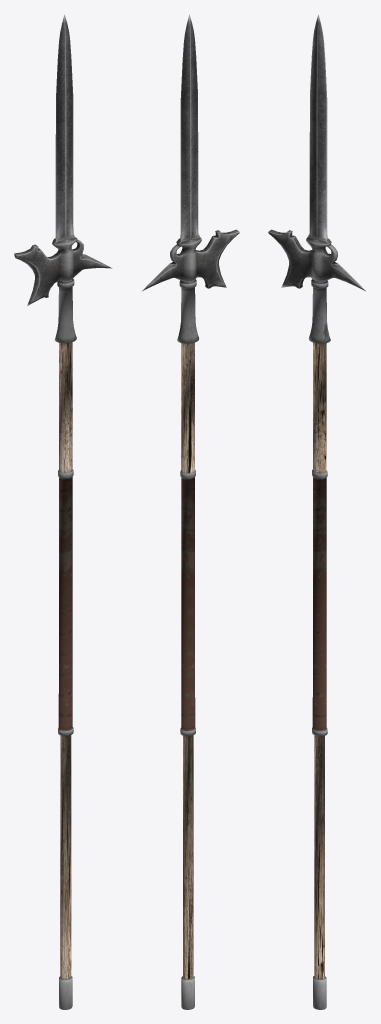
The model's file is SM_Halberd_03.fbx.
3 views of the same model, side by side, from view 1: azimuth 30°, elevation 25°; view 2: azimuth 210°, elevation 25°; view 3: azimuth 330°, elevation 25° (orthographic).
Visible parts, largest first — view 1: SM_Halberd_03_LOD0; view 2: SM_Halberd_03_LOD0; view 3: SM_Halberd_03_LOD0.
Part boxes in pixels (x1,y1,x2,y2): SM_Halberd_03_LOD0: [14, 14, 112, 1009]; SM_Halberd_03_LOD0: [142, 14, 239, 1009]; SM_Halberd_03_LOD0: [268, 14, 365, 1009].
Bounding box in the file's own units: 20.52 × 3.63 × 200.
Materials: 1 (1 with a texture image).
